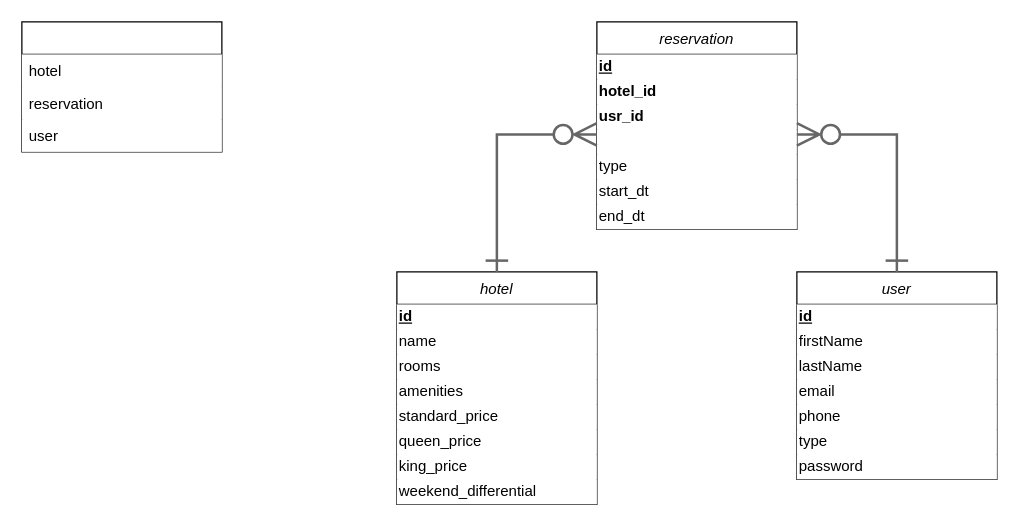
The diagram is 1019 pixels wide and 526 high, and some of its shapes have lost their labels. Here are the shapes that lost their labels. From the top down, the box of each, then its label:
(21, 21, 222, 152): hoteldb
(596, 129, 796, 154): room
